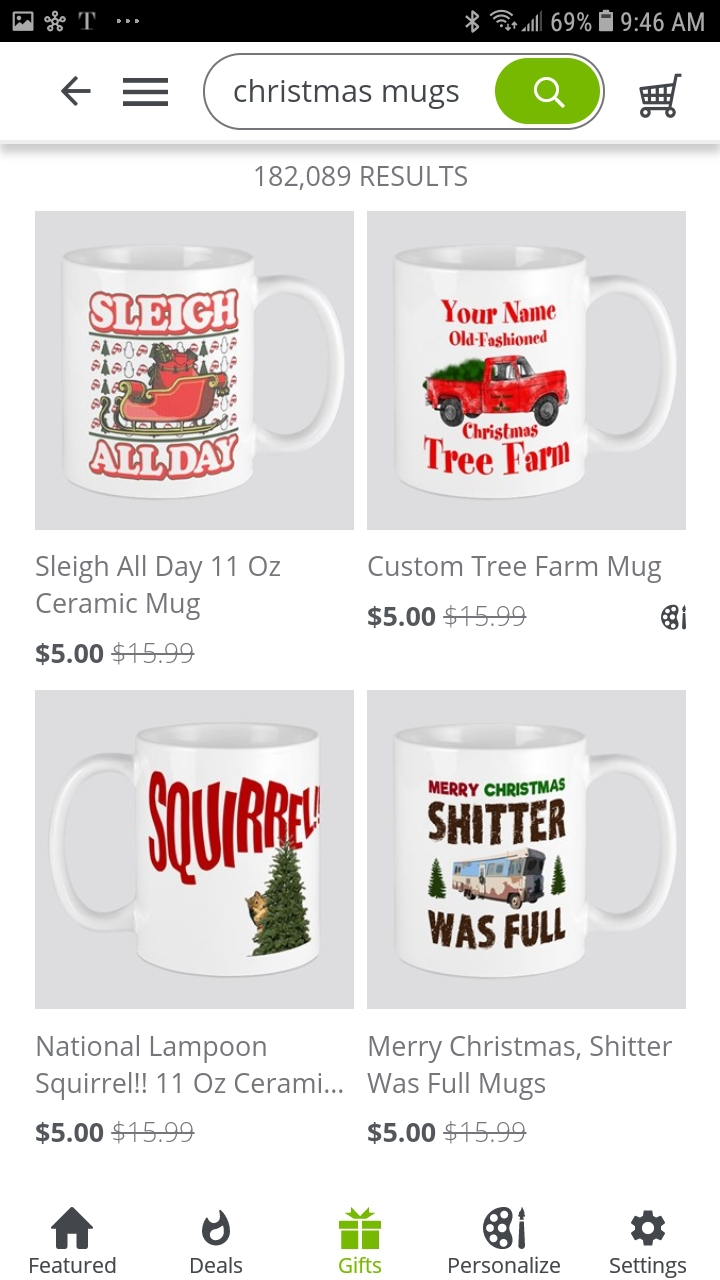EditText: (203, 53, 605, 132)
Icon: (495, 60, 600, 125), (638, 74, 682, 120), (338, 1206, 382, 1250), (51, 1207, 94, 1250), (123, 77, 170, 108), (630, 1209, 666, 1246), (61, 76, 93, 107)
Image: (36, 690, 354, 1010), (368, 690, 686, 1010), (36, 212, 354, 532), (368, 212, 686, 531), (483, 1206, 526, 1250), (202, 1209, 231, 1246), (660, 604, 688, 631)
Text: (367, 1034, 673, 1101), (37, 1036, 343, 1101), (38, 555, 282, 621), (369, 556, 662, 585), (234, 80, 460, 111), (256, 166, 468, 192), (367, 605, 527, 629), (37, 642, 196, 666), (368, 1121, 527, 1144), (37, 1123, 196, 1145), (449, 1256, 561, 1274), (609, 1256, 686, 1278), (30, 1257, 117, 1274), (192, 1256, 244, 1274), (339, 1256, 382, 1274)
UpperTaskBar: (1, 1, 720, 43)
